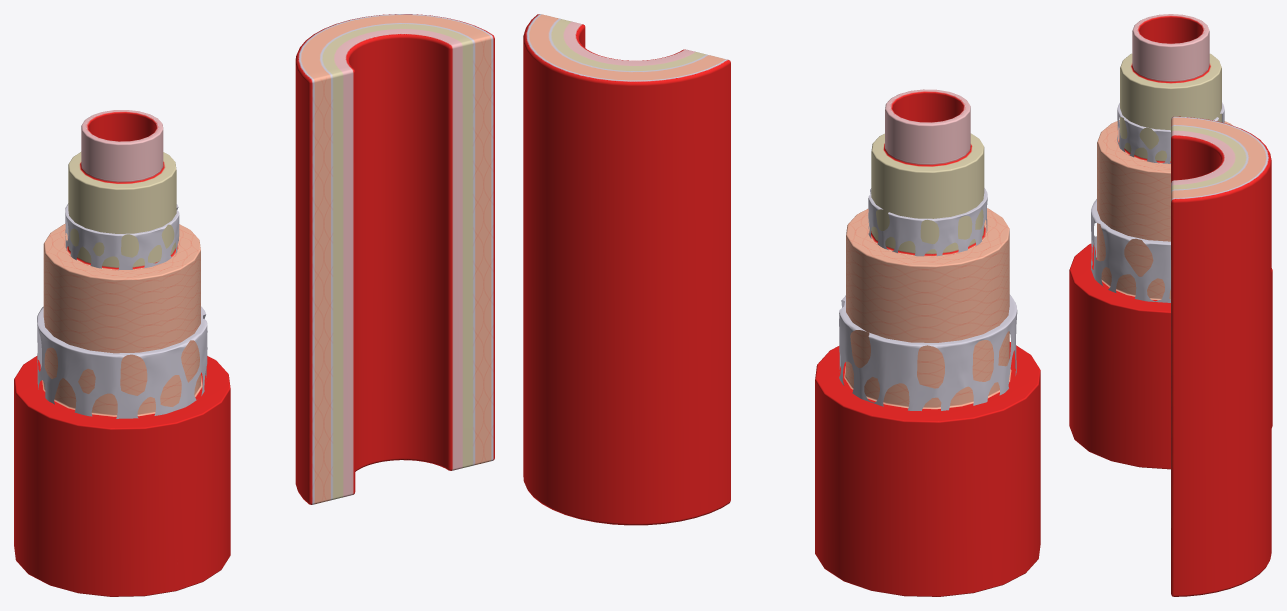
The model's file is cross_section_of_artery_1.glb.
The picture shows the model from 3 angles, left to right: view 1: azimuth 30°, elevation 25°; view 2: azimuth 150°, elevation 25°; view 3: azimuth 270°, elevation 25°; orthographic projection. The views are drawn at different scales.
Visible parts, largest first — view 1: Mesh_lambert1_0; view 2: Mesh_lambert1_0; view 3: Mesh_lambert1_0.
Boxes of the visible parts, left/top/right/bottom form: Mesh_lambert1_0: left=14, top=14, right=494, bottom=596; Mesh_lambert1_0: left=523, top=14, right=1040, bottom=596; Mesh_lambert1_0: left=1069, top=14, right=1272, bottom=596.
Bounding box in the file's own units: 0.3335 × 0.29 × 0.1344.
Materials: 1 (1 with a texture image).
